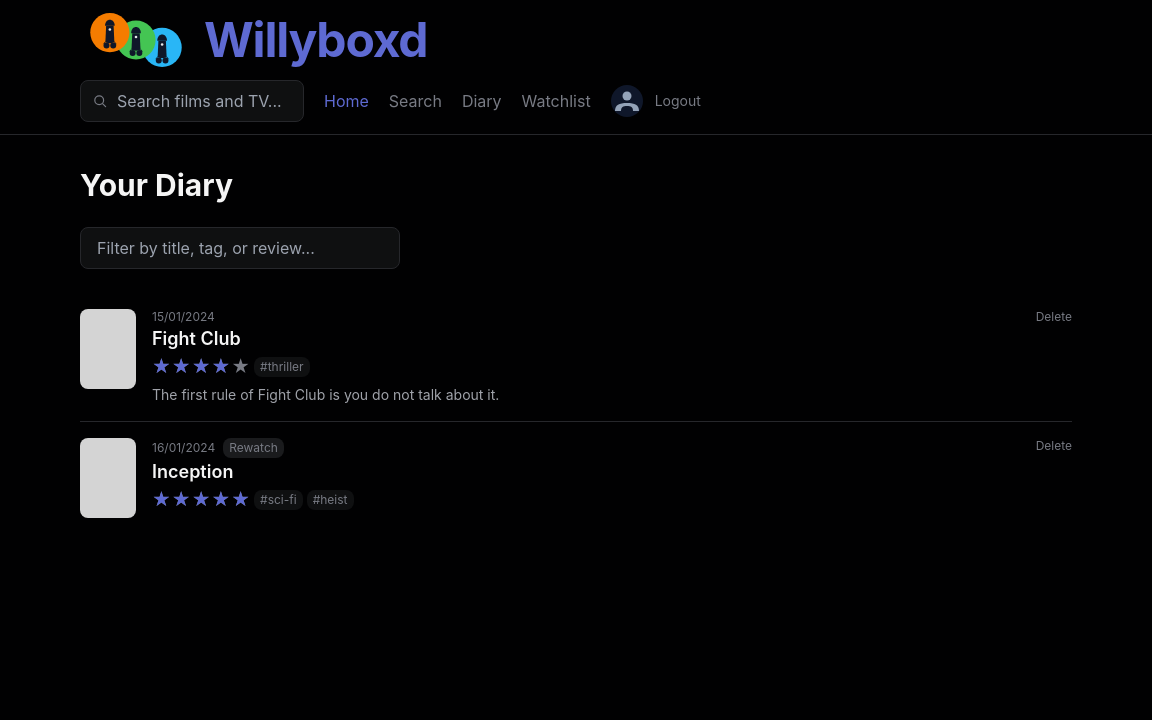
Test: Diary › filters diary entries by film title
expect the link "Fight Club" is shown: met, box [152, 328, 241, 349]
Type "inception" into the field named "Filter diary entries" at (240, 248), box [80, 227, 400, 269]
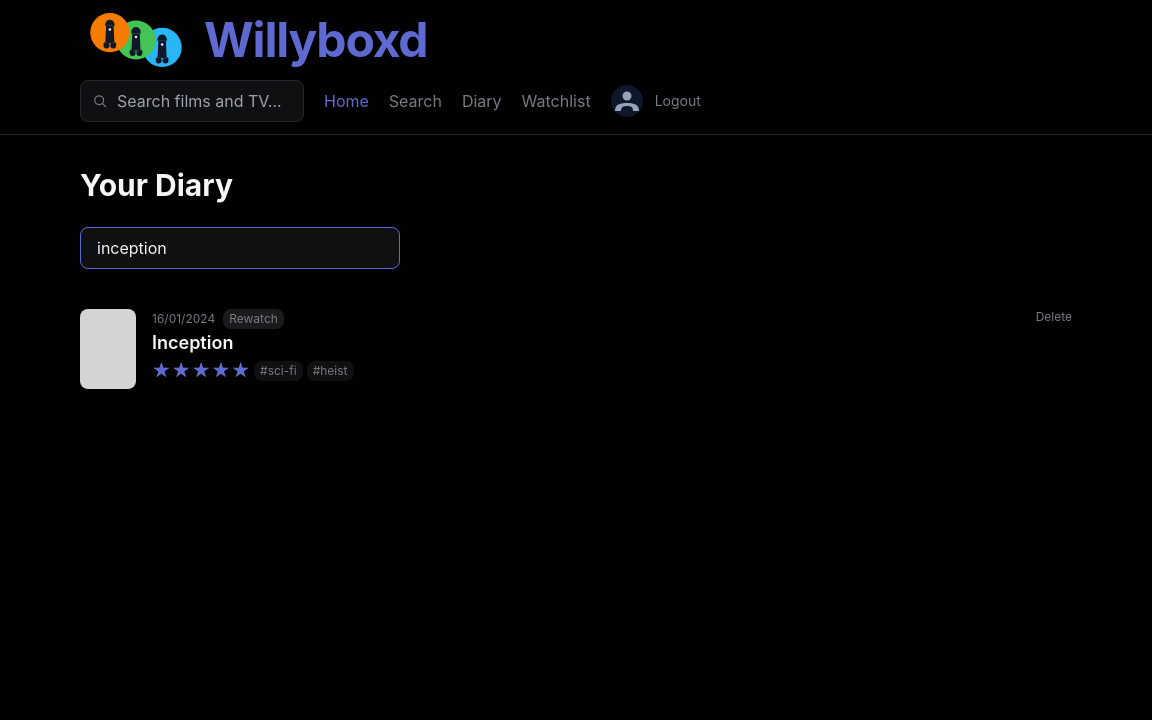
expect the link "Inception" is shown: met, box [152, 332, 233, 353]
expect the link "Fight Club" is gone: met
